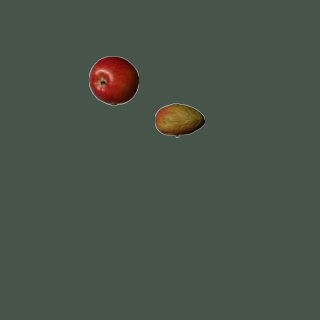Apple Braeburn: (88, 55, 138, 105)
Papaya: (154, 95, 204, 145)
